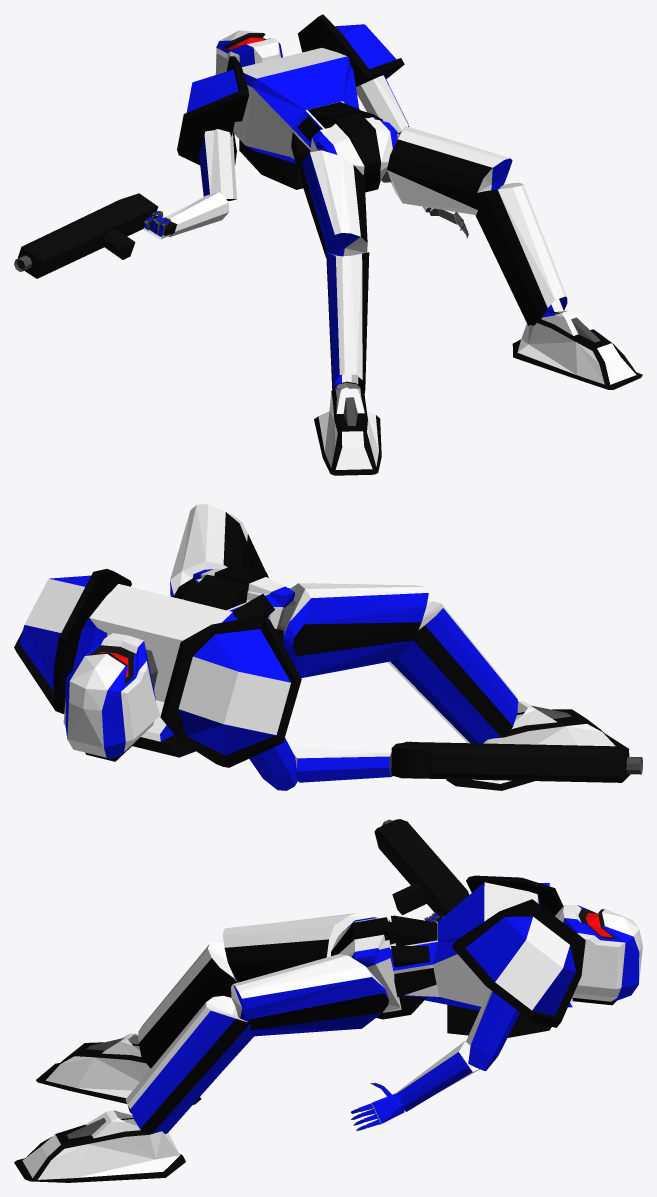
The model's file is robots_000027.obj.
3 renders of one model, top to bottom at view 1: azimuth 30°, elevation 25°; view 2: azimuth 150°, elevation 25°; view 3: azimuth 270°, elevation 25°, orthographic. The views are drawn at different scales.
Visible parts, largest first — view 1: Chest_plate_Cube.004, R_Thigh.002_Cube.027, R_Shin.002_Cube.029, R_Foot.002_Cube.035, Cube_Cube.001, R_Thigh_Cube.005, R_Shin_Cube.007, R_Foot_Cube, Cube.002_Cube.059, Pelvis_Cube.006, Cube_Cube.021, R_Arm_Cube.002 (+3 smaller); view 2: Cube.002_Cube.059, R_Thigh_Cube.005, Chest_plate_Cube.004, R_Shin_Cube.007, Head_base_Cube.022, Cube_Cube.001, Cube_Cube.021, R_Thigh.002_Cube.027, R_Foot_Cube, R_Forearm_Cube.008, Pelvis_Cube.006, R_Arm_Cube.002 (+1 smaller); view 3: Cube_Cube.021, Chest_plate_Cube.004, R_Thigh.002_Cube.027, R_Shin.002_Cube.029, R_Foot.002_Cube.035, Head_base_Cube.022, R_Thigh_Cube.005, Cube_Cube.001, R_Shin_Cube.007, R_Foot_Cube, Pelvis_Cube.006, L_Arm_Cube.014 (+3 smaller).
Part boxes in pixels (x1,y1,x2,y2): Chest_plate_Cube.004: [233, 48, 382, 189]; R_Thigh.002_Cube.027: [387, 126, 512, 214]; R_Shin.002_Cube.029: [473, 182, 567, 325]; R_Foot.002_Cube.035: [512, 309, 642, 389]; Cube_Cube.001: [14, 193, 177, 278]; R_Thigh_Cube.005: [300, 150, 367, 257]; R_Shin_Cube.007: [326, 252, 369, 392]; R_Foot_Cube: [314, 381, 381, 475]; Cube.002_Cube.059: [177, 56, 248, 165]; Pelvis_Cube.006: [310, 113, 397, 192]; Cube_Cube.021: [297, 14, 404, 94]; R_Arm_Cube.002: [199, 129, 236, 200]; Cube.002_Cube.059: [160, 616, 301, 767]; R_Thigh_Cube.005: [282, 583, 428, 678]; Chest_plate_Cube.004: [73, 574, 283, 757]; R_Shin_Cube.007: [387, 601, 517, 743]; Head_base_Cube.022: [63, 633, 159, 761]; Cube_Cube.001: [391, 742, 642, 782]; Cube_Cube.021: [14, 569, 131, 713]; R_Thigh.002_Cube.027: [170, 504, 249, 596]; R_Foot_Cube: [446, 701, 629, 790]; R_Forearm_Cube.008: [290, 747, 392, 782]; Pelvis_Cube.006: [193, 564, 294, 628]; R_Arm_Cube.002: [249, 738, 297, 790]; Cube_Cube.021: [452, 899, 585, 1027]; Chest_plate_Cube.004: [390, 882, 572, 1037]; R_Thigh.002_Cube.027: [231, 954, 388, 1036]; R_Shin.002_Cube.029: [125, 995, 255, 1133]; R_Foot.002_Cube.035: [14, 1110, 185, 1182]; Head_base_Cube.022: [555, 905, 642, 1005]; R_Thigh_Cube.005: [222, 913, 364, 982]; Cube_Cube.001: [374, 819, 469, 921]; R_Shin_Cube.007: [138, 942, 237, 1068]; R_Foot_Cube: [36, 1033, 201, 1104]; Pelvis_Cube.006: [331, 917, 426, 1019]; L_Arm_Cube.014: [466, 989, 520, 1070].
Size of the model in its own units: 2.87 by 1.49 by 3.11.
